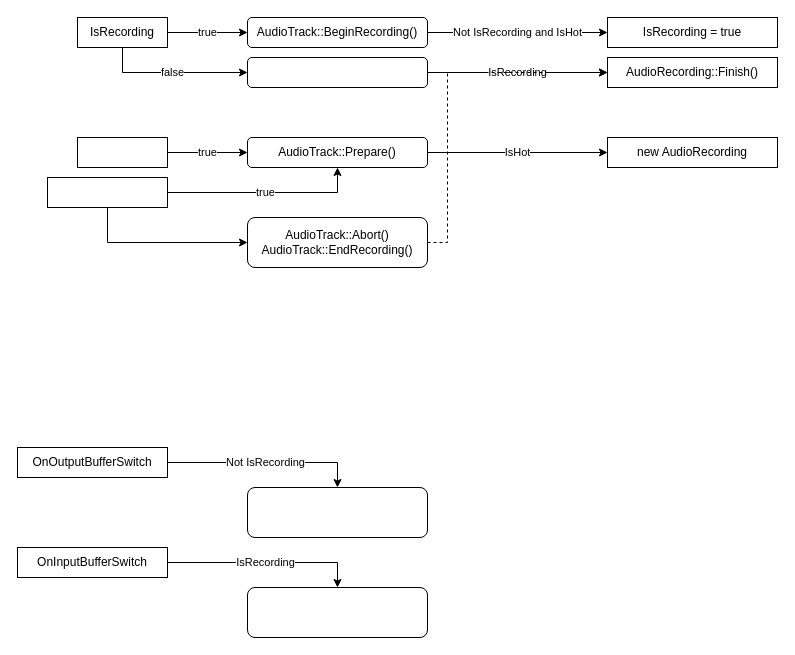
Image size: 795x655. Some labels were removed from this diagram. Each missing label, with the box of its shape:
AudioTrack::EndRecording(): (246, 56, 428, 88)
AudioTrack::IsHot: (46, 176, 168, 208)
AudioTrack::NextFrame() ? AudioTrack::Send(): (246, 486, 428, 538)
AudioTrack::NextFrame() AudioTrack::Send(): (246, 586, 428, 638)
IsRunning: (76, 136, 168, 168)
